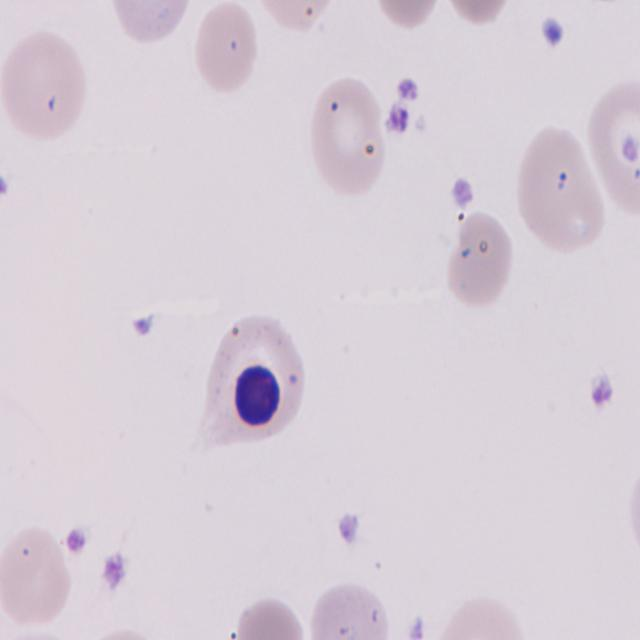RBC: (512, 123, 606, 254), (306, 76, 396, 200), (2, 25, 91, 142), (1, 513, 81, 632), (586, 75, 640, 223), (446, 212, 519, 314), (188, 0, 261, 98), (300, 582, 416, 639), (424, 590, 548, 640)
